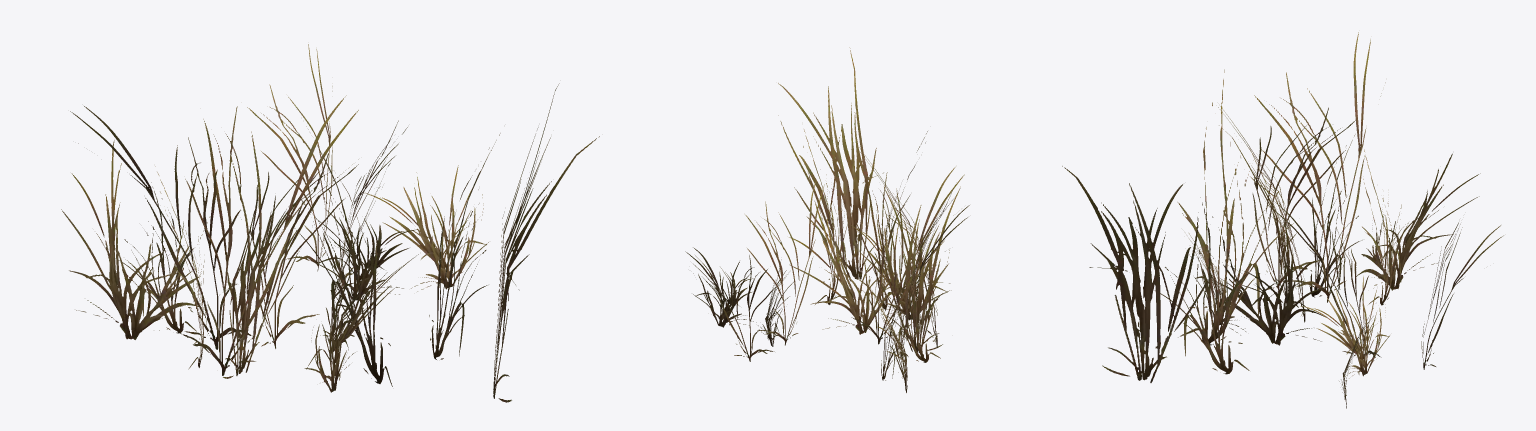
The picture shows the model from 3 angles, left to right: view 1: azimuth 30°, elevation 25°; view 2: azimuth 150°, elevation 25°; view 3: azimuth 270°, elevation 25°; orthographic projection. The views are drawn at different scales.
Parts seen in each view (by area): view 1: grasspatch2; view 2: grasspatch2; view 3: grasspatch2.
Part boxes in pixels (x1,y1,x2,y2): grasspatch2: (61,44,599,402); grasspatch2: (685,47,969,392); grasspatch2: (1062,32,1503,408).
Size of the model in its own units: 0.8029 by 0.6 by 0.8478.
1 material, 1 textured.
